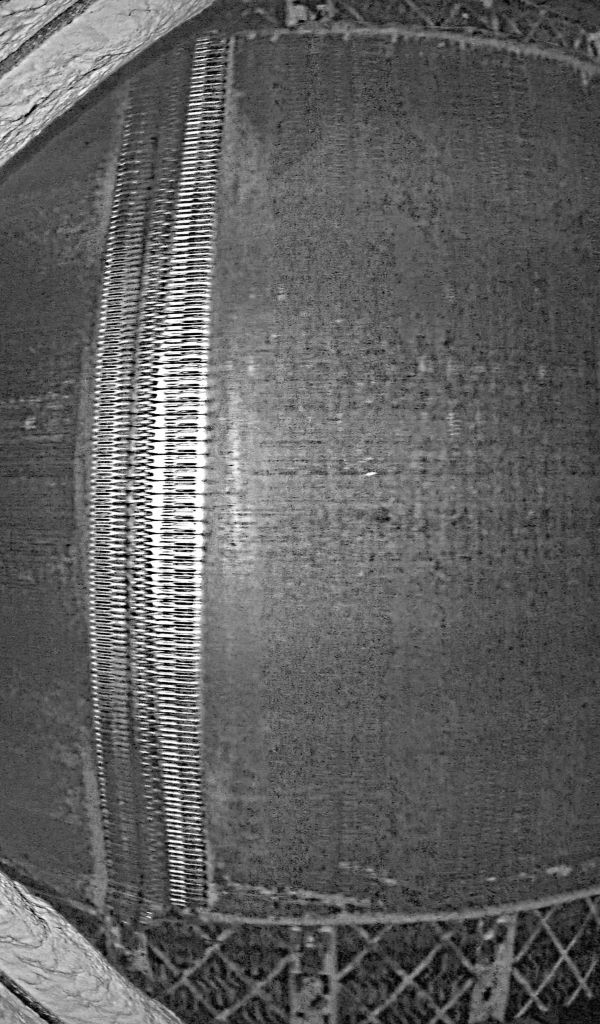splice: (88, 28, 234, 919)
